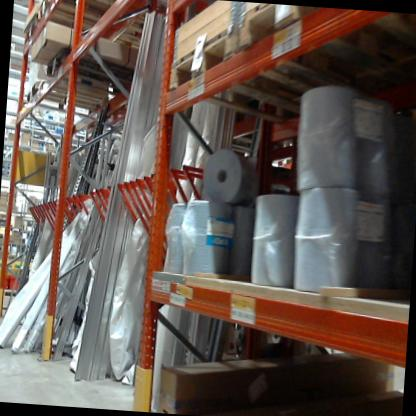pallet: (166, 19, 375, 144), (232, 3, 416, 93), (18, 67, 129, 133), (37, 0, 178, 43), (25, 12, 95, 51), (0, 288, 19, 302)
